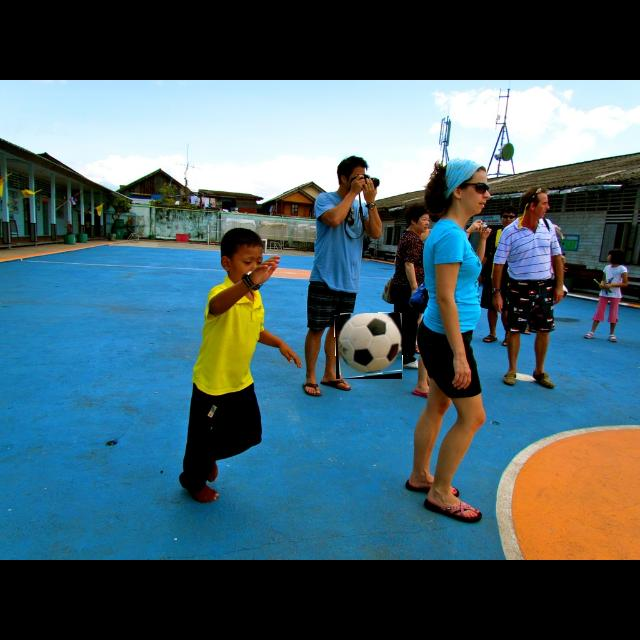Football: (336, 313, 402, 379)
